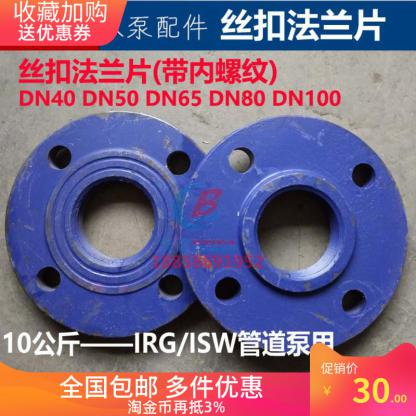FOD: (172, 110, 406, 360), (0, 107, 231, 340)
